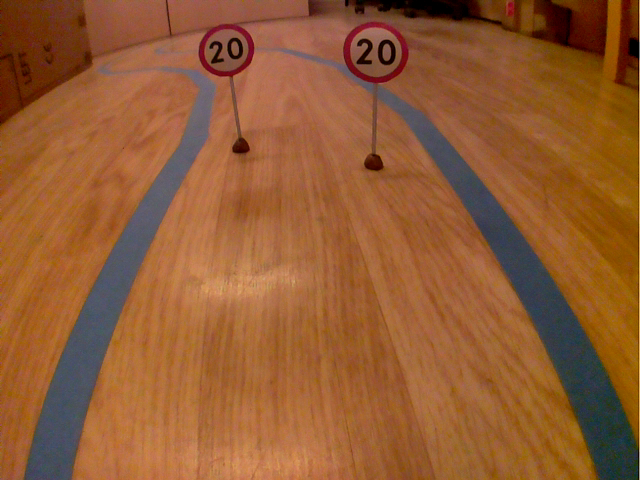Ograniczenie 20: (339, 17, 412, 89), (196, 21, 257, 79)
